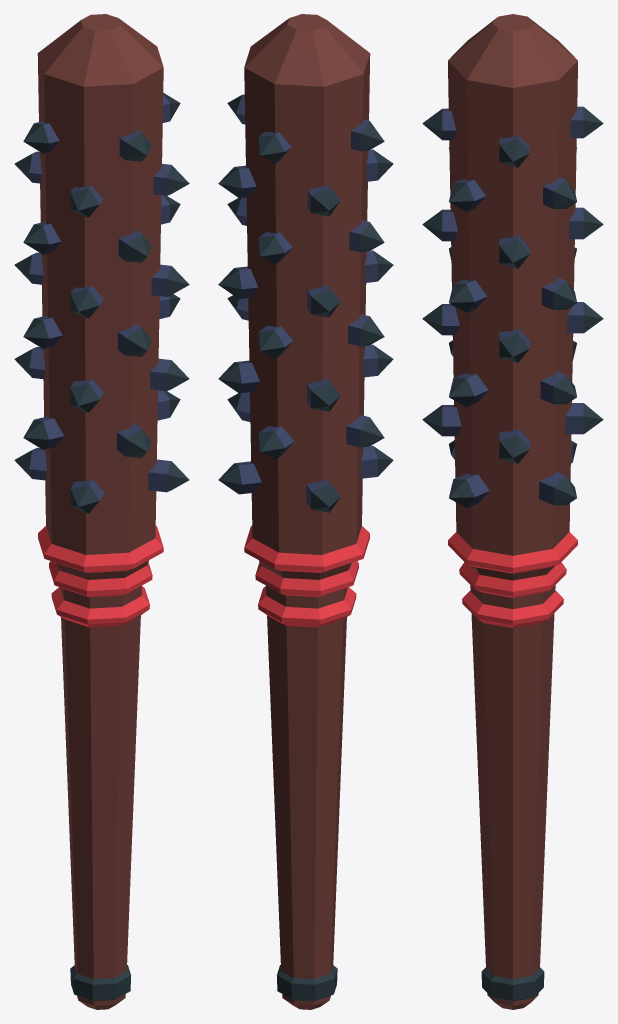
Rendered from Mace_03.fbx.
3 views of the same model, side by side, from view 1: azimuth 30°, elevation 25°; view 2: azimuth 150°, elevation 25°; view 3: azimuth 270°, elevation 25° (orthographic).
Visible parts, largest first — view 1: Mace 03; view 2: Mace 03; view 3: Mace 03.
Boxes of the visible parts, x1,y1,x2,y2 form: Mace 03: (14,14,189,1009); Mace 03: (218,14,393,1009); Mace 03: (422,14,603,1009).
Bounding box in the file's own units: 19.53 × 116 × 19.53.
